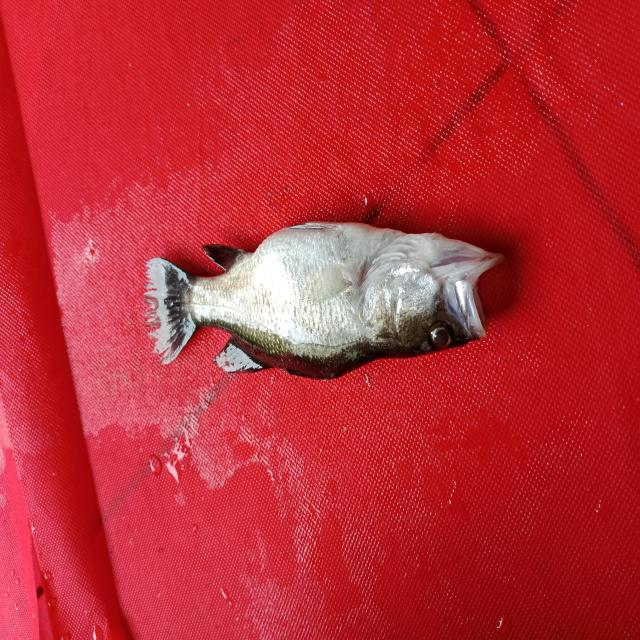ikan: (122, 192, 516, 398)
